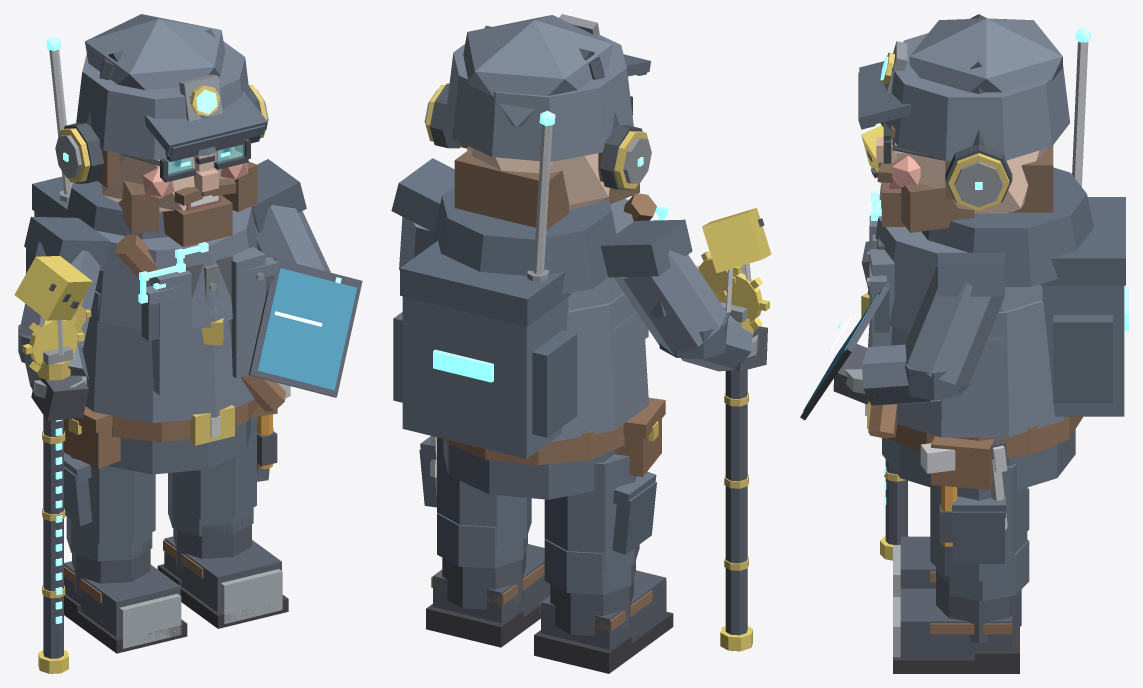
The model's file is engineer.glb.
3 views of the same model, side by side, from view 1: azimuth 30°, elevation 25°; view 2: azimuth 150°, elevation 25°; view 3: azimuth 270°, elevation 25° (orthographic). The views are drawn at different scales.
Parts seen in each view (by area): view 1: Engineer; view 2: Engineer; view 3: Engineer.
Boxes of the visible parts, x1=… form: Engineer: x1=14, y1=14, x2=362, y2=673; Engineer: x1=391, y1=14, x2=771, y2=673; Engineer: x1=800, y1=14, x2=1128, y2=673.
Bounding box in the file's own units: 1.06 × 1.81 × 0.8821.
